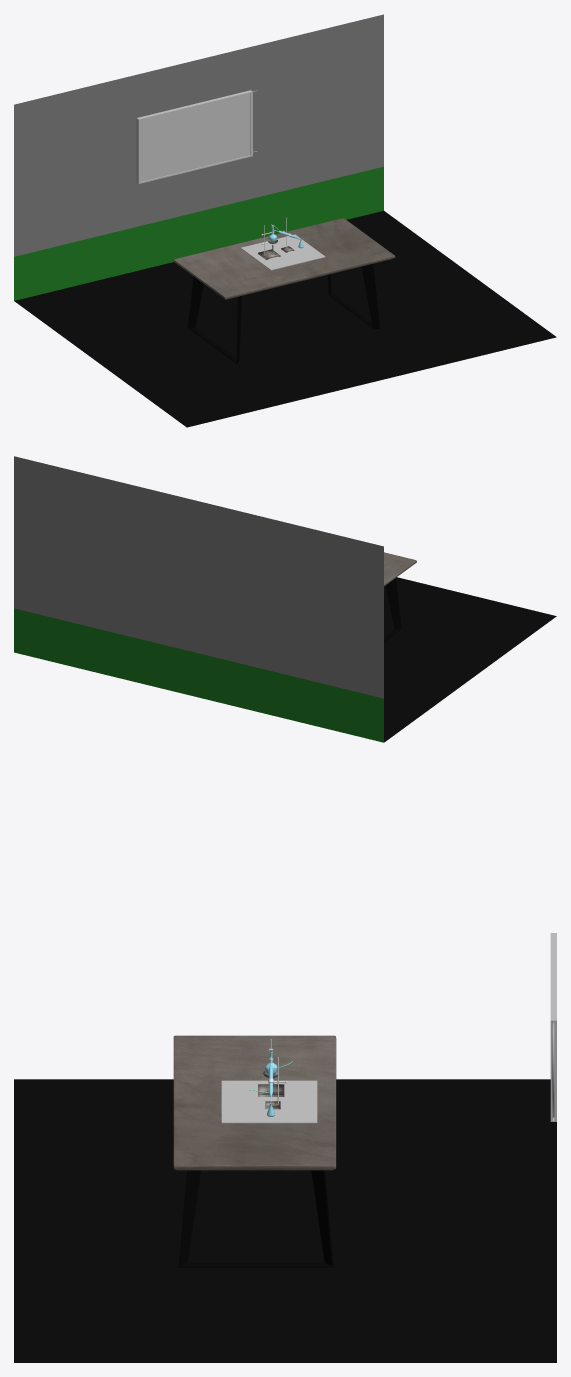
Rendered from exp base.fbx.
3 renders of one model, top to bottom at view 1: azimuth 30°, elevation 25°; view 2: azimuth 150°, elevation 25°; view 3: azimuth 270°, elevation 25°, orthographic. The views are drawn at different scales.
Visible parts, largest first — view 1: Plane001, _Table, Box003, Box001; view 2: Plane001, Box003, _Table; view 3: Plane001, _Table, Box001, Box003.
Part boxes in pixels (x1,y1,x2,y2): Plane001: (14, 14, 556, 427); _Table: (173, 218, 395, 363); Box003: (136, 90, 252, 183); Box001: (241, 234, 325, 270); Plane001: (14, 456, 556, 742); Box003: (147, 532, 261, 624); _Table: (384, 552, 416, 642); Plane001: (14, 1079, 556, 1362); _Table: (173, 1035, 336, 1267); Box001: (221, 1080, 317, 1123); Box003: (550, 933, 556, 1121).
Bounding box in the file's own units: 162 × 82.4 × 132.
